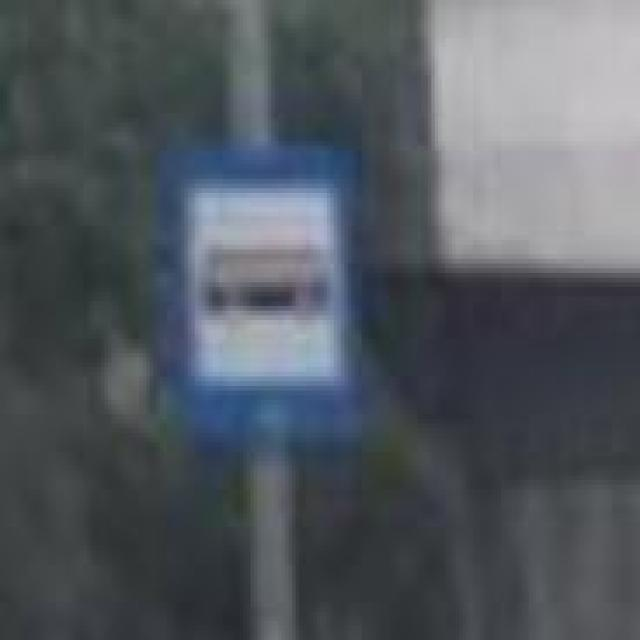traffic sign: (160, 136, 372, 452)
